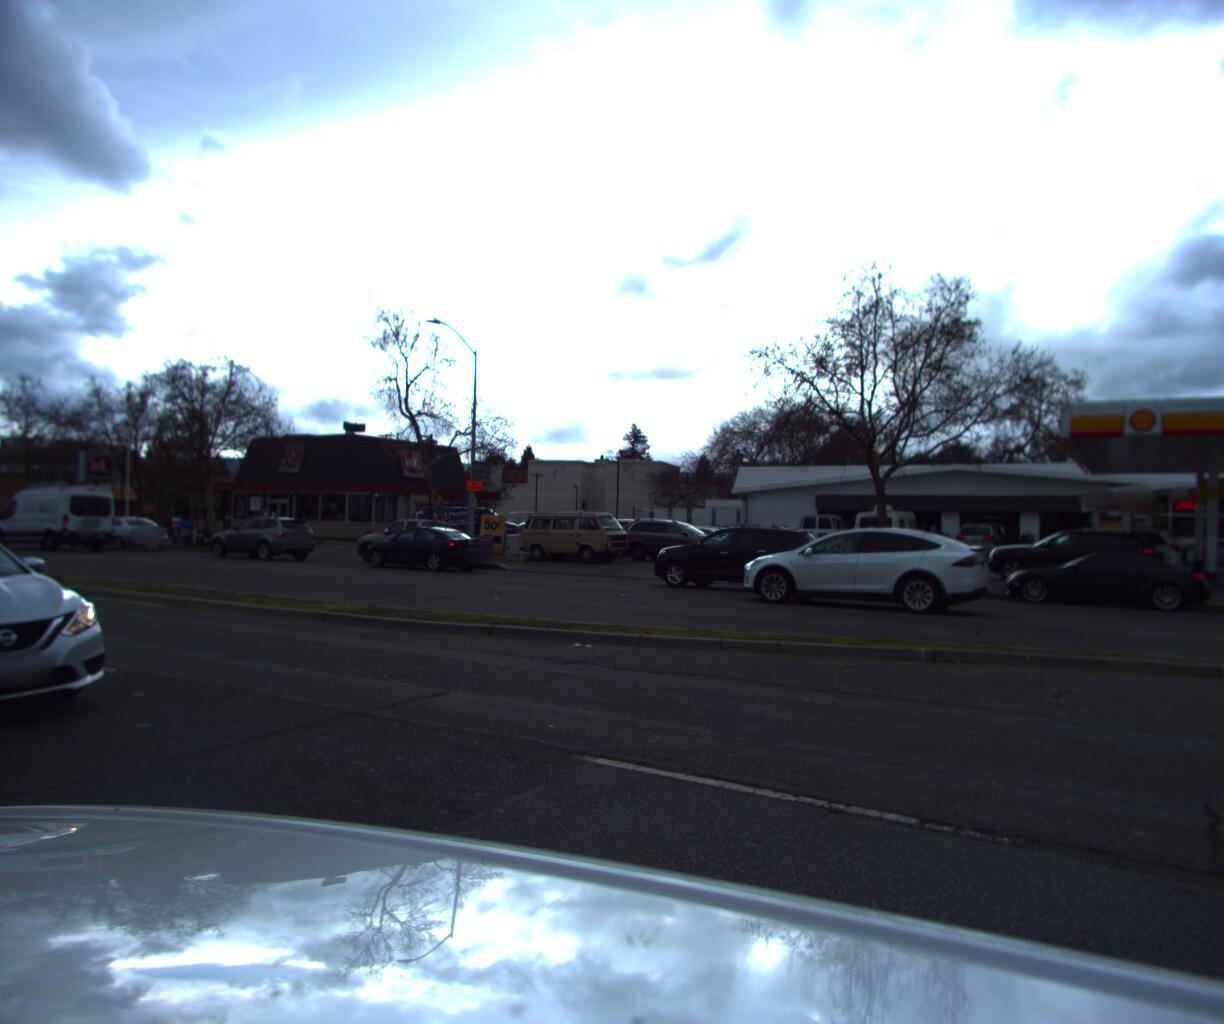car: (737, 515, 998, 614), (636, 518, 835, 595), (996, 544, 1214, 613), (980, 521, 1163, 585), (1011, 517, 1185, 581), (348, 515, 497, 571), (404, 496, 525, 550), (515, 508, 636, 562), (355, 528, 488, 576), (201, 514, 318, 562), (631, 517, 741, 565), (70, 518, 172, 555), (689, 519, 784, 552), (791, 509, 853, 554), (894, 487, 958, 527), (969, 502, 1029, 542), (950, 517, 1006, 557), (1051, 517, 1108, 556)
other_vehicle: (845, 500, 926, 555)
